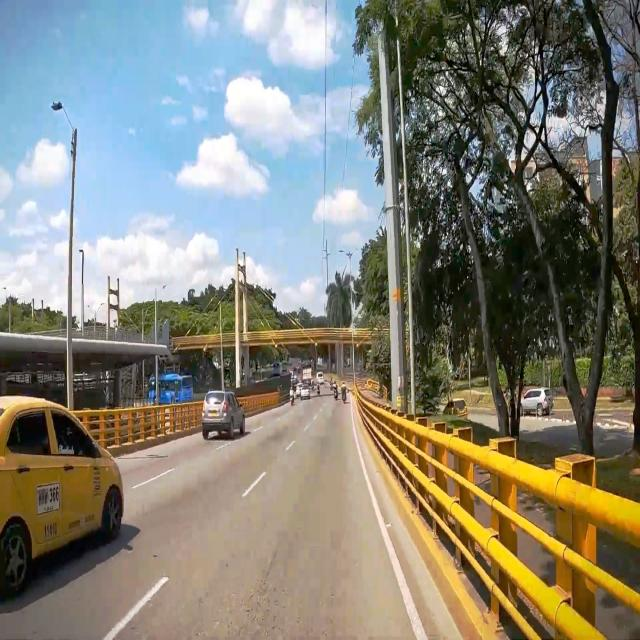license_plate: (36, 482, 61, 514)
